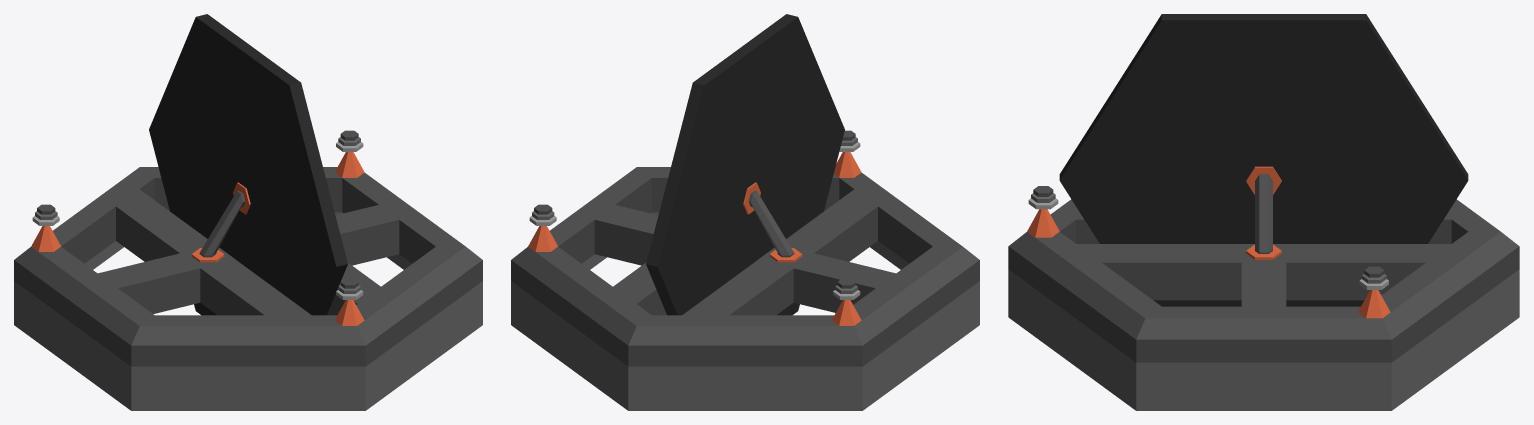
The model's file is Sawmill.fbx.
3 renders of one model, left to right at view 1: azimuth 30°, elevation 25°; view 2: azimuth 150°, elevation 25°; view 3: azimuth 270°, elevation 25°, orthographic. The views are drawn at different scales.
Visible parts, largest first — view 1: SawmillBase, Saw, Base, InsulatorCones, Supports, InsulatorLower, SawmillSupportFlanges, InsulatorUpper, InsulatorMid; view 2: SawmillBase, Saw, Base, InsulatorCones, Supports, SawmillSupportFlanges, InsulatorLower, InsulatorUpper; view 3: Saw, SawmillBase, Base, Supports, InsulatorCones, SawmillSupportFlanges.
Boxes of the visible parts, box(x1,y1,x2,y2) form: SawmillBase: box(14, 167, 482, 366); Saw: box(149, 14, 347, 315); Base: box(14, 212, 482, 410); InsulatorCones: box(31, 152, 364, 325); Supports: box(199, 190, 245, 257); InsulatorLower: box(32, 142, 363, 299); SawmillSupportFlanges: box(191, 182, 250, 262); InsulatorUpper: box(37, 130, 358, 288); InsulatorMid: box(35, 137, 360, 293); SawmillBase: box(511, 167, 979, 366); Saw: box(646, 14, 844, 315); Base: box(511, 212, 979, 410); InsulatorCones: box(528, 152, 861, 325); Supports: box(748, 190, 794, 257); SawmillSupportFlanges: box(743, 182, 802, 262); InsulatorLower: box(529, 142, 860, 299); InsulatorUpper: box(534, 130, 855, 288); Saw: box(1059, 14, 1468, 306); SawmillBase: box(1008, 199, 1519, 362); Base: box(1008, 269, 1519, 410); Supports: box(1255, 174, 1272, 253); InsulatorCones: box(1027, 209, 1390, 318); SawmillSupportFlanges: box(1246, 166, 1281, 259).
Bounding box in the file's own units: 173 × 139 × 200.
